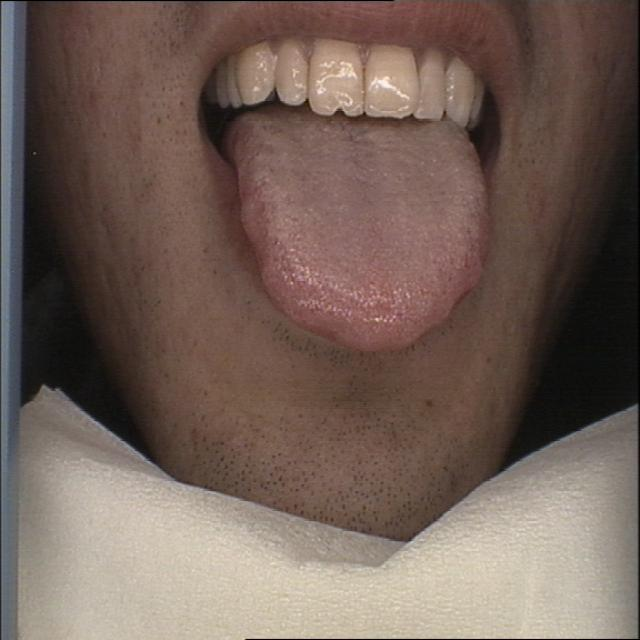tongue: (212, 97, 497, 356)
